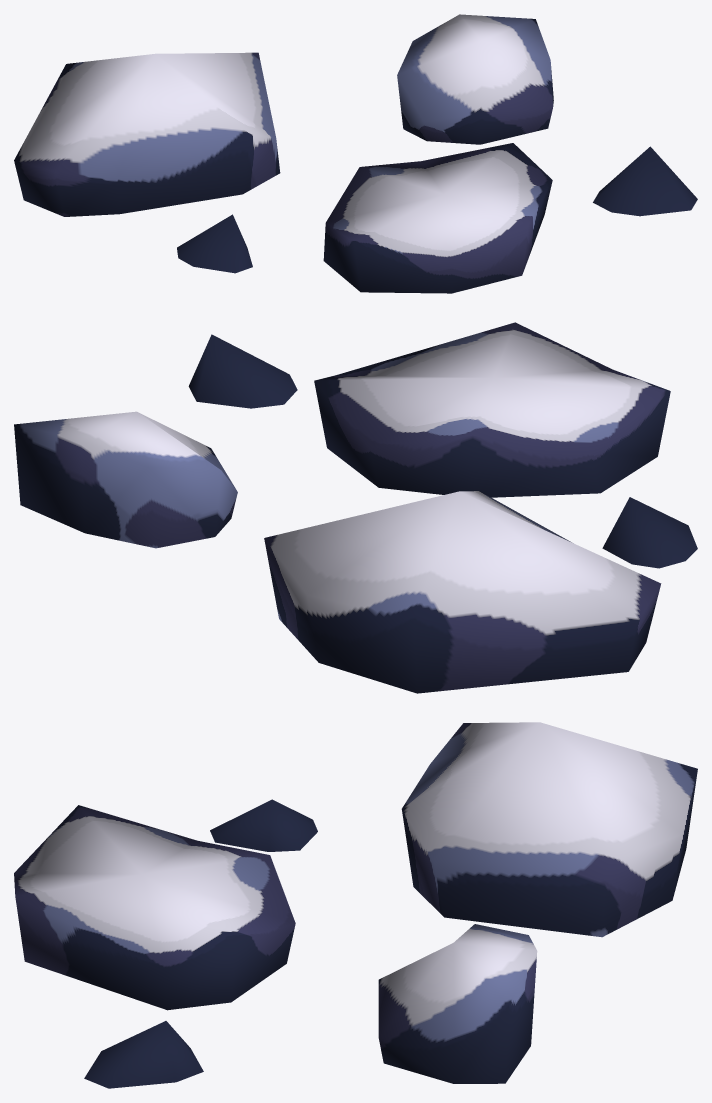
Rendered from Rock 2x 2 10_preview_3DS_simplified.glb.
The picture shows the model from 3 angles, top to bottom: view 1: azimuth 30°, elevation 25°; view 2: azimuth 150°, elevation 25°; view 3: azimuth 270°, elevation 25°; orthographic projection. The views are drawn at different scales.
Parts seen in each view (by area): view 1: Marine Park Empire model; view 2: Marine Park Empire model; view 3: Marine Park Empire model.
Boxes of the visible parts, left/top/right/bottom form: Marine Park Empire model: left=14, top=14, right=697, bottom=293; Marine Park Empire model: left=14, top=322, right=697, bottom=693; Marine Park Empire model: left=14, top=722, right=697, bottom=1088.
Size of the model in its own units: 63.4 by 13.35 by 58.35.
1 material, 1 textured.
